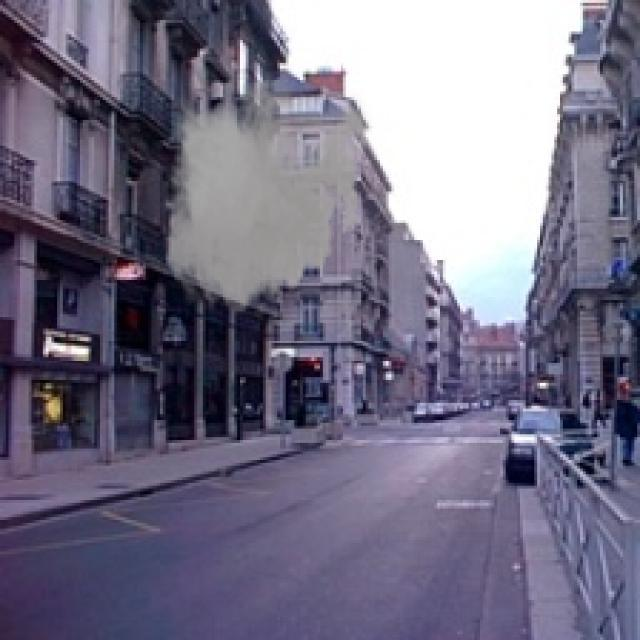Smoke: (157, 63, 374, 323)
